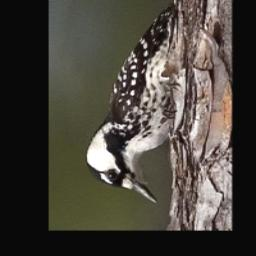Woodpecker: (82, 4, 187, 205)
